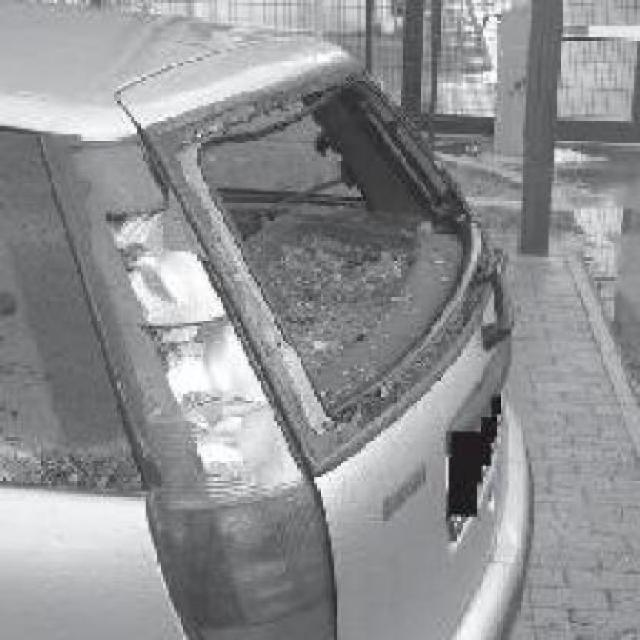damaged-rear-window: (127, 67, 501, 440)
damaged-tail-light: (97, 210, 280, 492)
